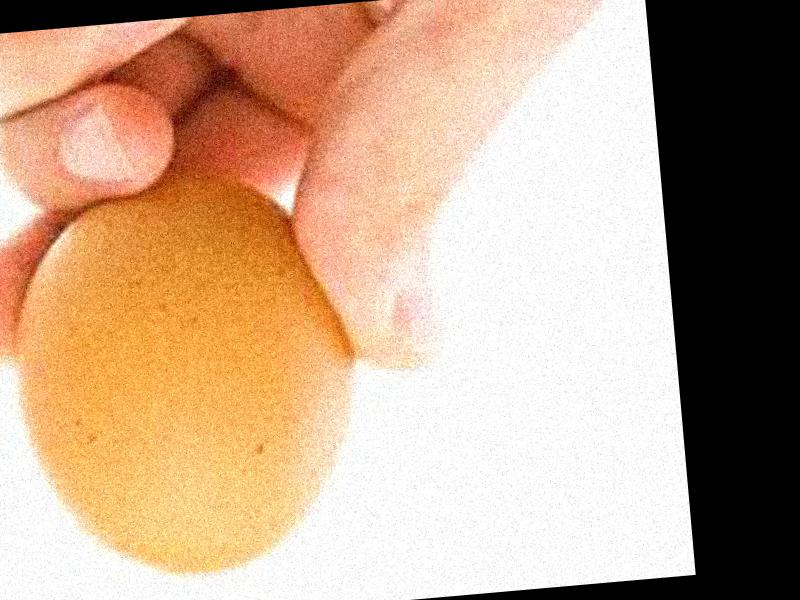Eggs: (0, 172, 371, 591)
